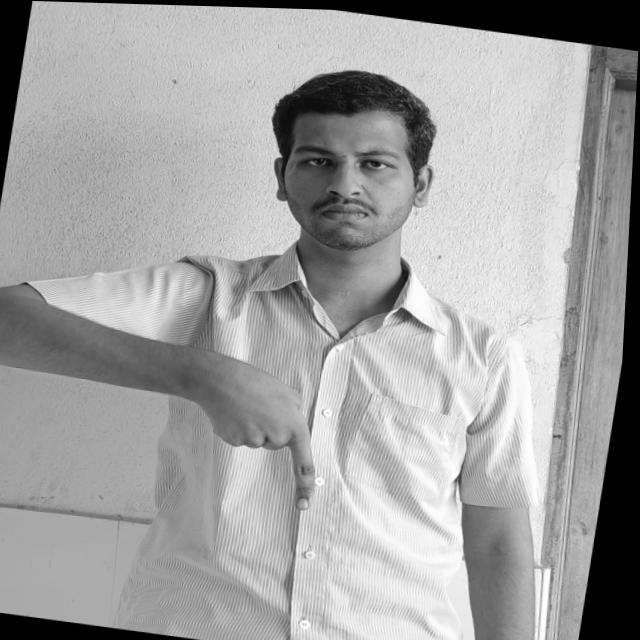Now: (175, 350, 338, 511)
